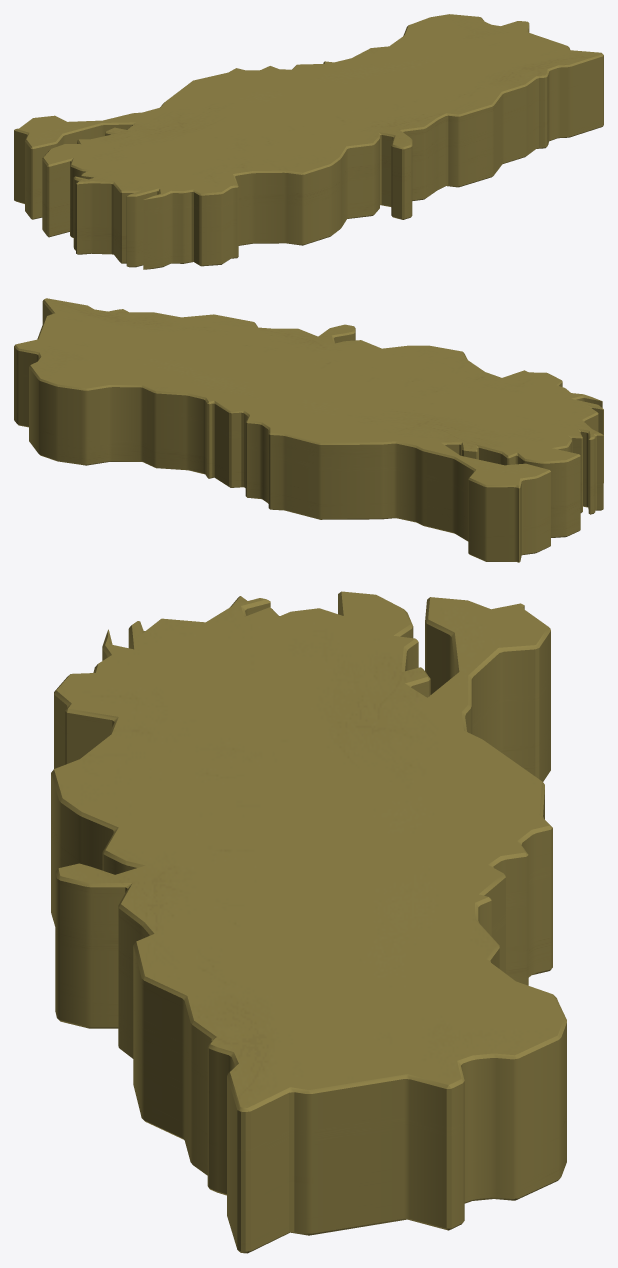
The model's file is turkey.DAE.
The picture shows the model from 3 angles, top to bottom: view 1: azimuth 30°, elevation 25°; view 2: azimuth 150°, elevation 25°; view 3: azimuth 270°, elevation 25°; orthographic projection. The views are drawn at different scales.
Visible parts, largest first — view 1: Turkey; view 2: Turkey; view 3: Turkey.
Part boxes in pixels (bbox=[...]): Turkey: bbox=[14, 14, 603, 269]; Turkey: bbox=[14, 298, 603, 562]; Turkey: bbox=[51, 591, 566, 1253].
Size of the model in its own units: 191 by 80.34 by 25.
1 material, 1 textured.
